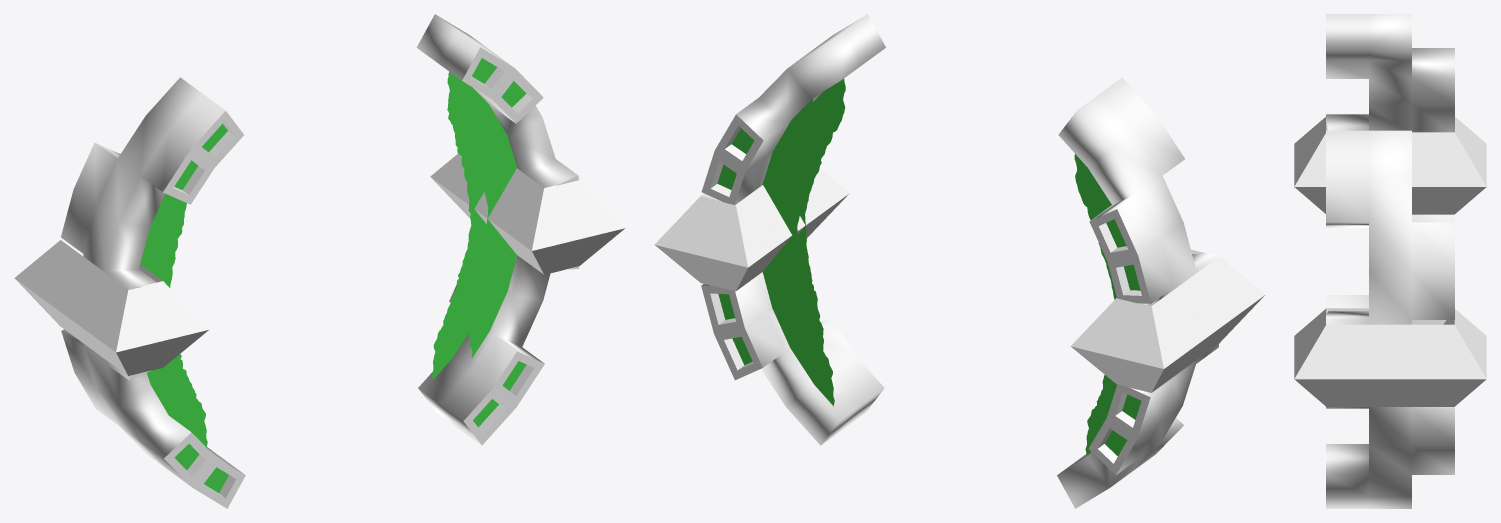
Rendered from Itemring.fbx.
3 views of the same model, side by side, from view 1: azimuth 30°, elevation 25°; view 2: azimuth 150°, elevation 25°; view 3: azimuth 270°, elevation 25° (orthographic). The views are drawn at different scales.
Visible parts, largest first — view 1: OuterRing, Cap, Glow, Cap1, Glow1; view 2: OuterRing, Cap, Glow1, Cap1, Glow; view 3: OuterRing, Cap1, Cap.
Boxes of the visible parts, bbox=[...] form: OuterRing: bbox=[61, 14, 578, 508]; Cap: bbox=[14, 239, 209, 376]; Glow: bbox=[140, 71, 517, 447]; Cap1: bbox=[430, 154, 625, 274]; Glow1: bbox=[432, 91, 486, 379]; OuterRing: bbox=[701, 14, 1219, 508]; Cap: bbox=[1070, 249, 1265, 392]; Glow1: bbox=[762, 99, 1116, 433]; Cap1: bbox=[654, 168, 849, 291]; Glow: bbox=[795, 78, 1102, 454]; OuterRing: bbox=[1326, 14, 1454, 508]; Cap1: bbox=[1294, 308, 1486, 406]; Cap: bbox=[1294, 117, 1486, 214].
Bounding box in the file's own units: 4.35 × 3.75 × 1.5.
